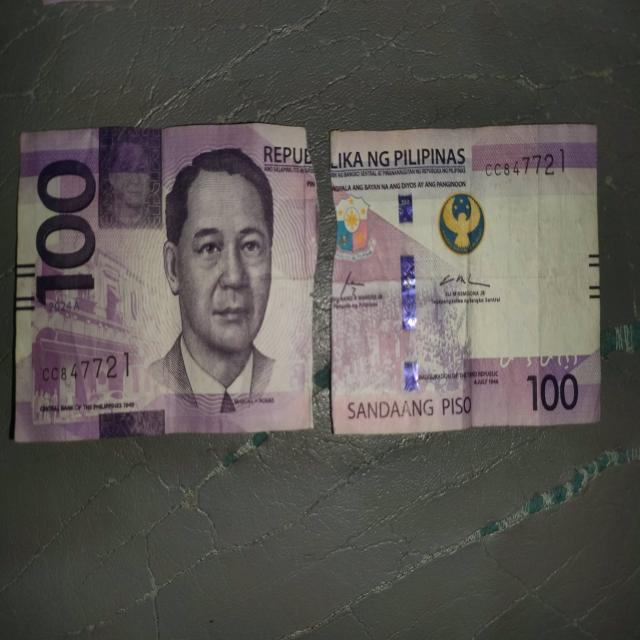broken: (14, 124, 602, 442)
torn: (286, 115, 368, 456)
